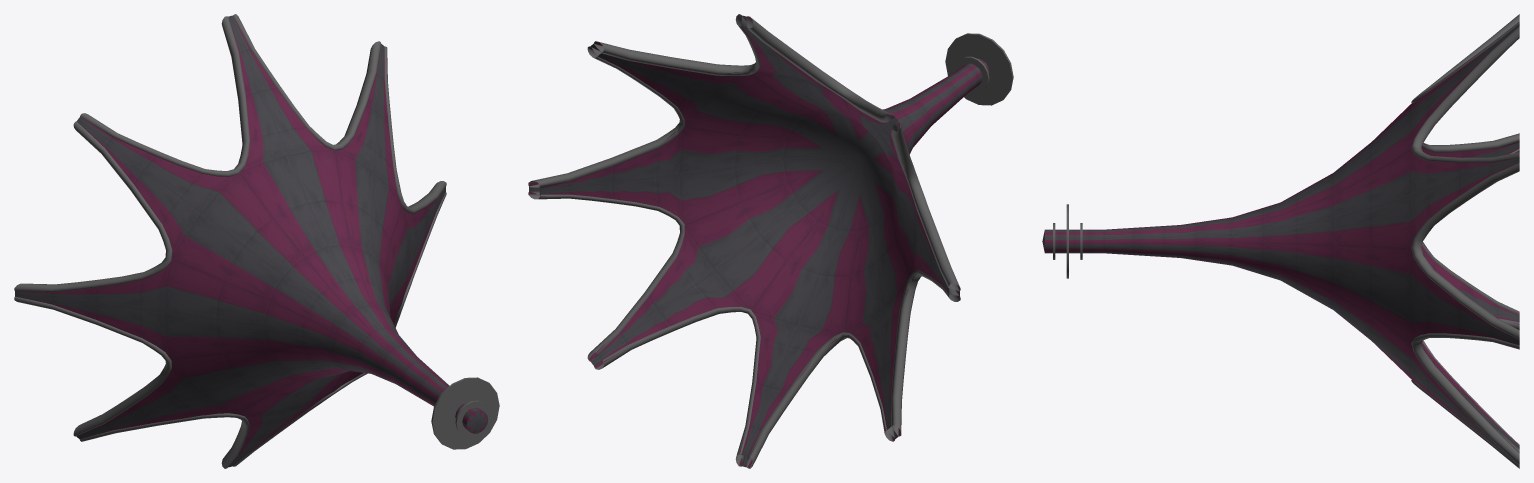
File: nt_vista_red_tent_LOD0.obj
3 renders of one model, left to right at view 1: azimuth 30°, elevation 25°; view 2: azimuth 150°, elevation 25°; view 3: azimuth 270°, elevation 25°, orthographic. The views are drawn at different scales.
Parts seen in each view (by area): view 1: mtl_nt_vista_red_tent, nt_2020_metal_chrome; view 2: mtl_nt_vista_red_tent, nt_2020_metal_chrome; view 3: mtl_nt_vista_red_tent, nt_2020_metal_chrome.
Boxes of the visible parts, bbox=[...] form: mtl_nt_vista_red_tent: bbox=[15, 15, 488, 467]; nt_2020_metal_chrome: bbox=[14, 14, 499, 468]; mtl_nt_vista_red_tent: bbox=[529, 15, 989, 467]; nt_2020_metal_chrome: bbox=[528, 14, 1013, 468]; mtl_nt_vista_red_tent: bbox=[1042, 24, 1519, 466]; nt_2020_metal_chrome: bbox=[1053, 14, 1519, 468].
Bounding box in the file's own units: 4283 × 4283 × 4260.
